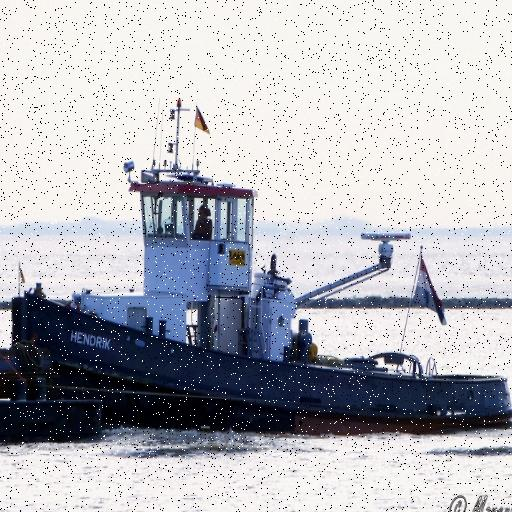tugboat: (10, 156, 512, 449)
